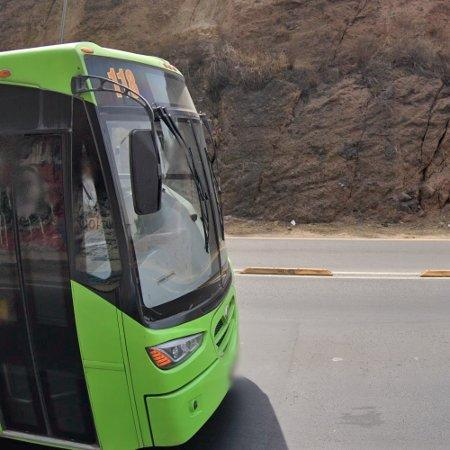buses: (0, 42, 238, 450)
